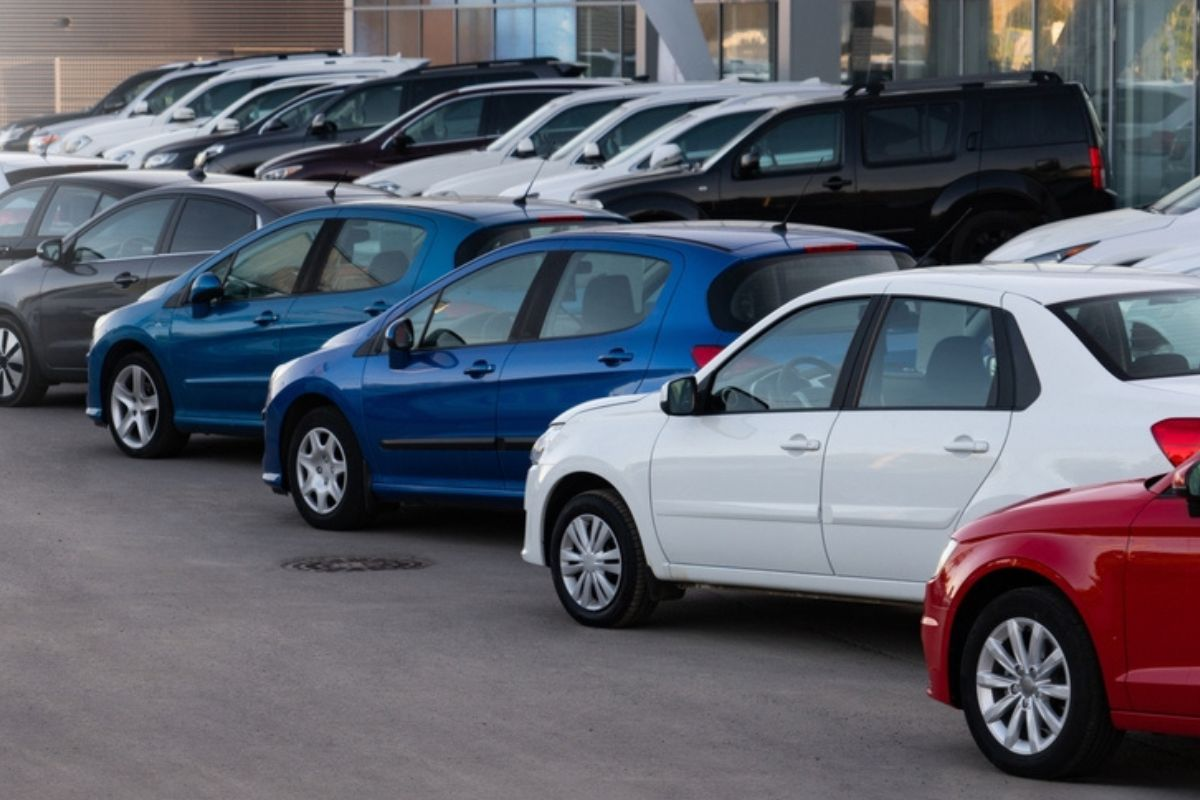Car: (522, 264, 1200, 628), (263, 220, 916, 530), (86, 199, 626, 458), (569, 71, 1118, 263), (921, 452, 1200, 780), (0, 180, 393, 407), (351, 75, 764, 198), (192, 54, 593, 178), (426, 81, 826, 196), (254, 76, 638, 181), (501, 85, 848, 201), (59, 56, 432, 159), (27, 49, 344, 154), (101, 72, 386, 169), (0, 169, 243, 271), (137, 80, 364, 172), (0, 59, 213, 152), (983, 176, 1200, 265), (0, 151, 128, 193), (1133, 244, 1200, 278)
